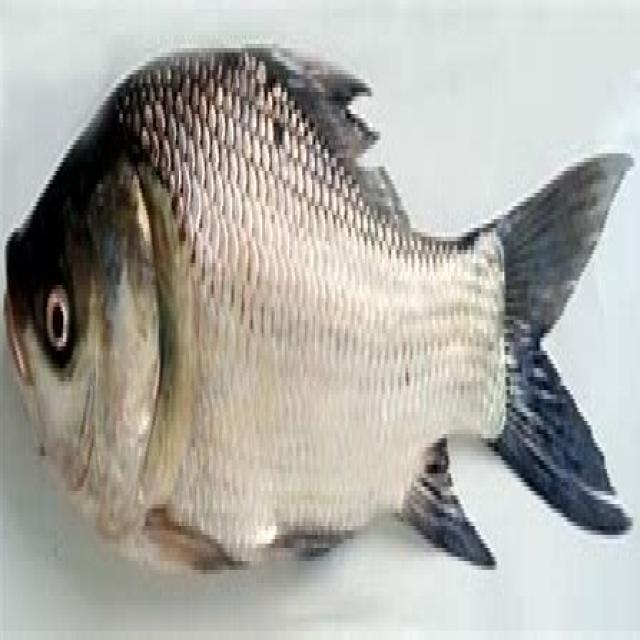Catla: (2, 51, 632, 570)
